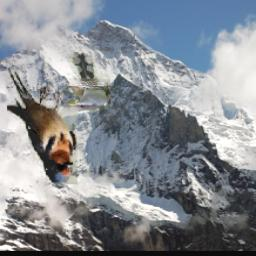Cuckoo: (63, 53, 110, 112)
Swallow: (7, 68, 78, 185)
